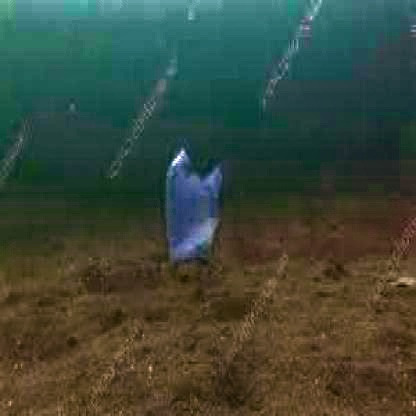pbag: (164, 146, 226, 275)
